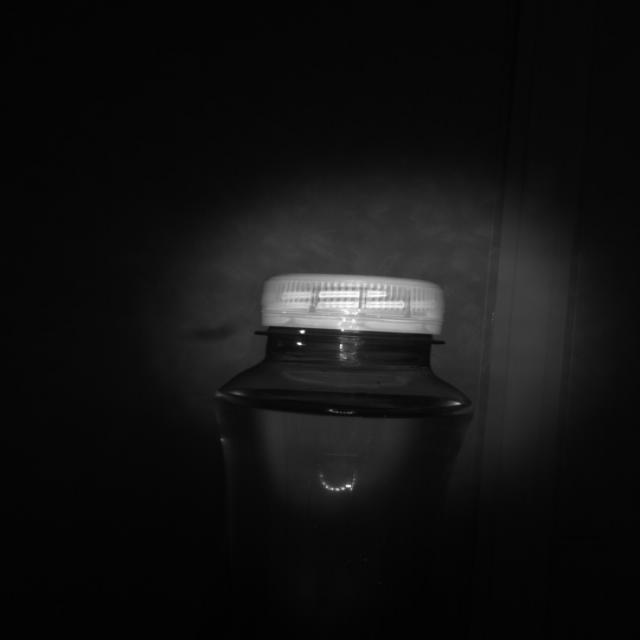Good: (262, 271, 446, 338)
